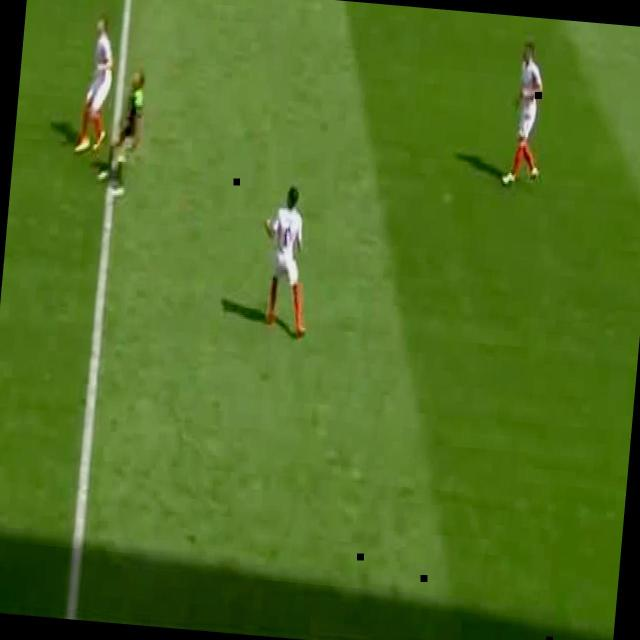player-white: (254, 182, 320, 340), (502, 40, 551, 189), (96, 68, 148, 196), (75, 16, 117, 157)
